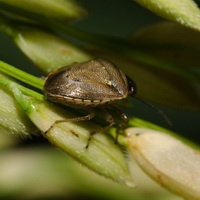insect: (44, 58, 133, 108)
